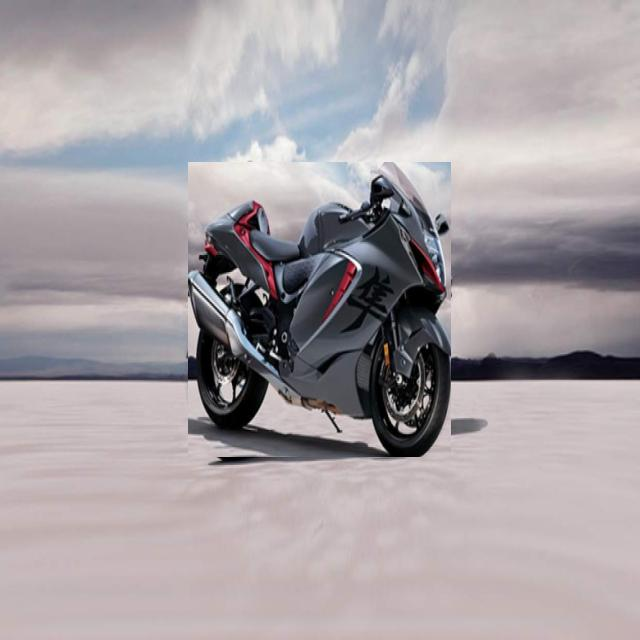motorcycle: (188, 162, 451, 457)
